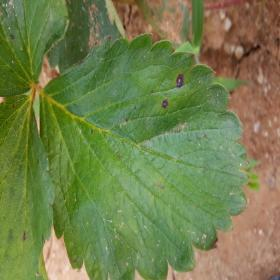Leaf Spot: (39, 33, 250, 279), (0, 95, 55, 279)
